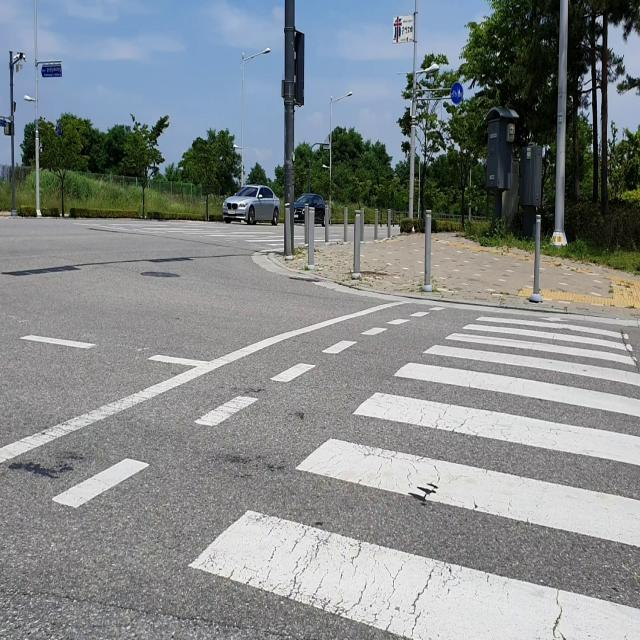횡단보도: (183, 306, 640, 640), (74, 218, 343, 250)
